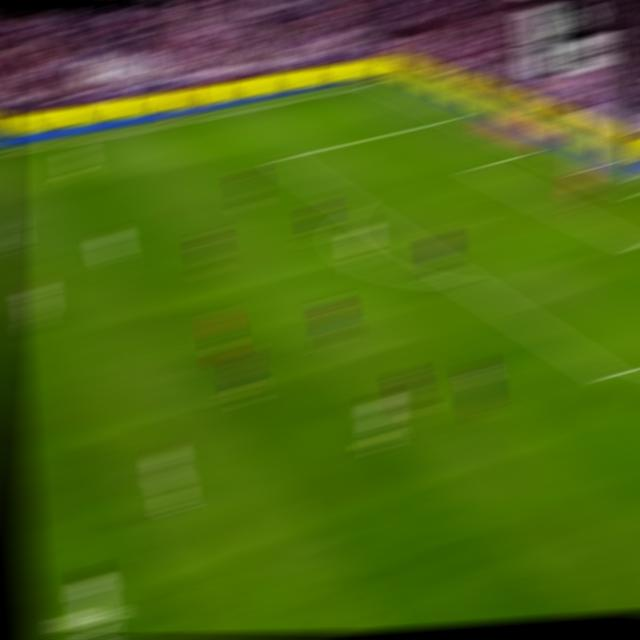bigarea_bottom_inner: (596, 365, 622, 387)
bigarea_top_inner: (272, 152, 292, 164)
bigarea_top_outter: (446, 111, 468, 123)
bottom_arc_area_intersection: (453, 275, 473, 287)
smallarea_bottom_inner: (630, 238, 640, 257)
smallarea_top_inner: (467, 163, 486, 171)
top_arc_area_intersection: (343, 201, 364, 212)
